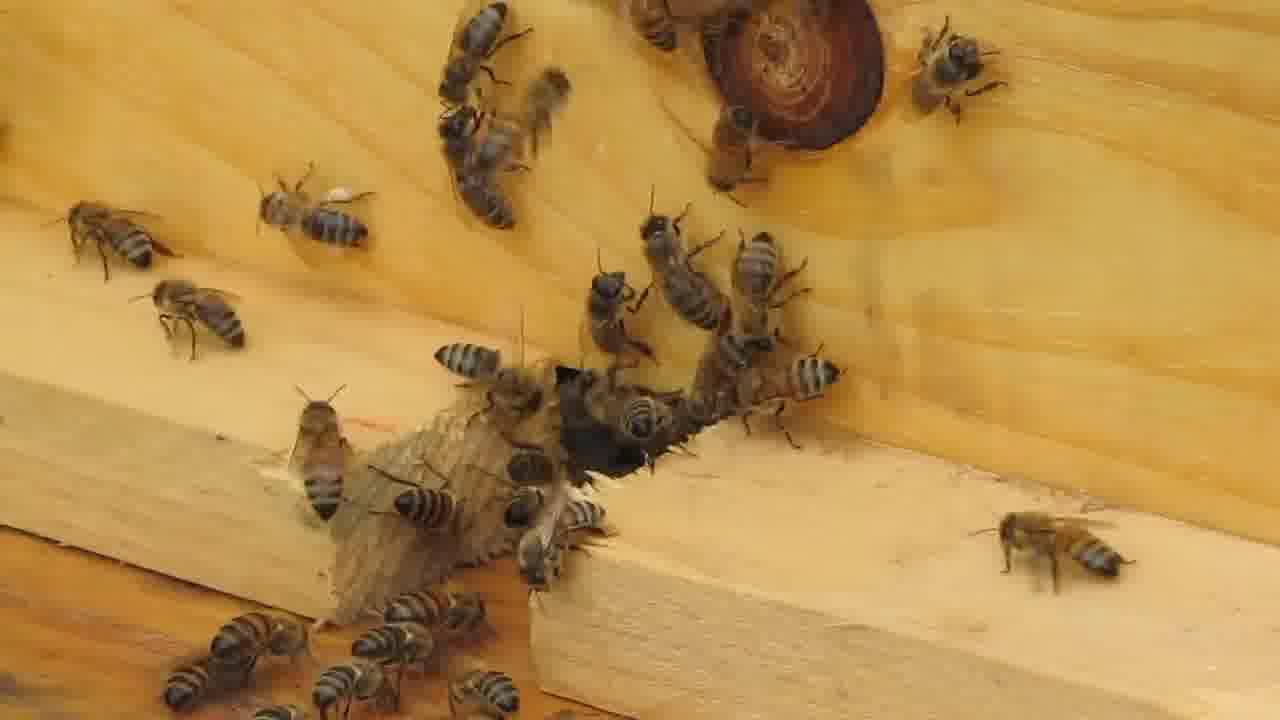pollen: (250, 170, 384, 262)
